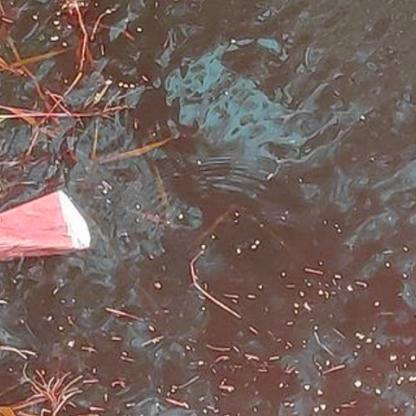Plastic: (0, 188, 94, 263)
